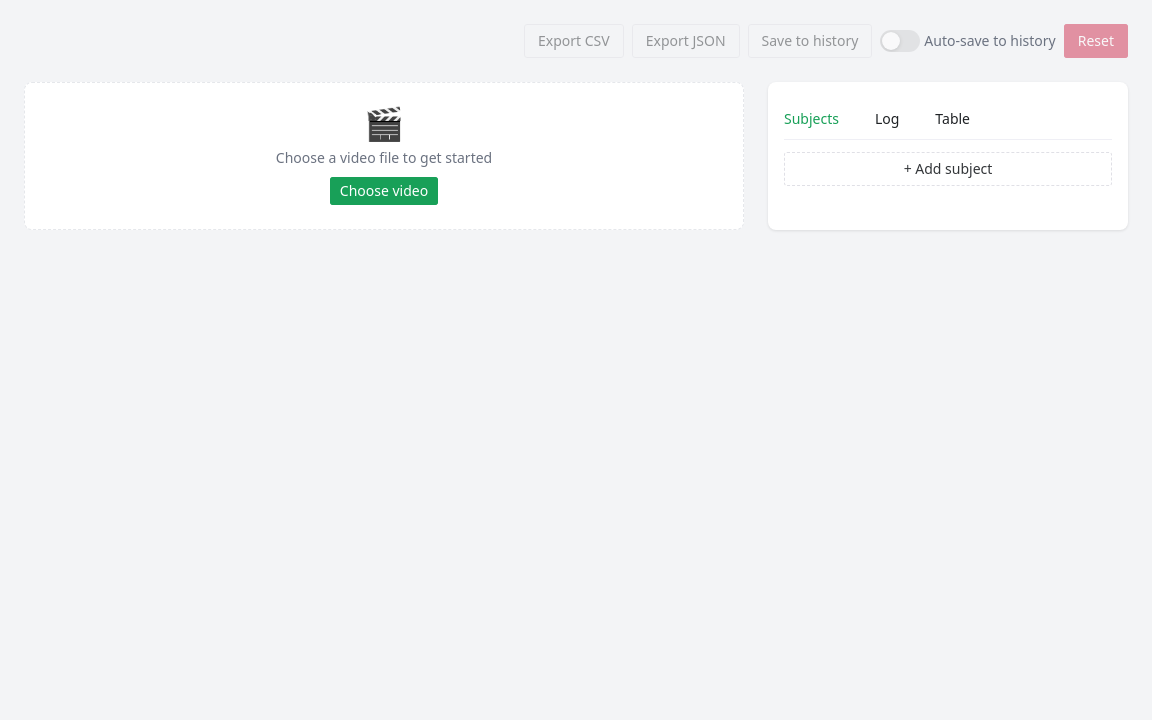
Test: HomePage › adds a subject through the form card and shows it among the subject cards
The image size is (1152, 720).
Click the button "+ Add subject" at (948, 169), box [784, 152, 1112, 186]
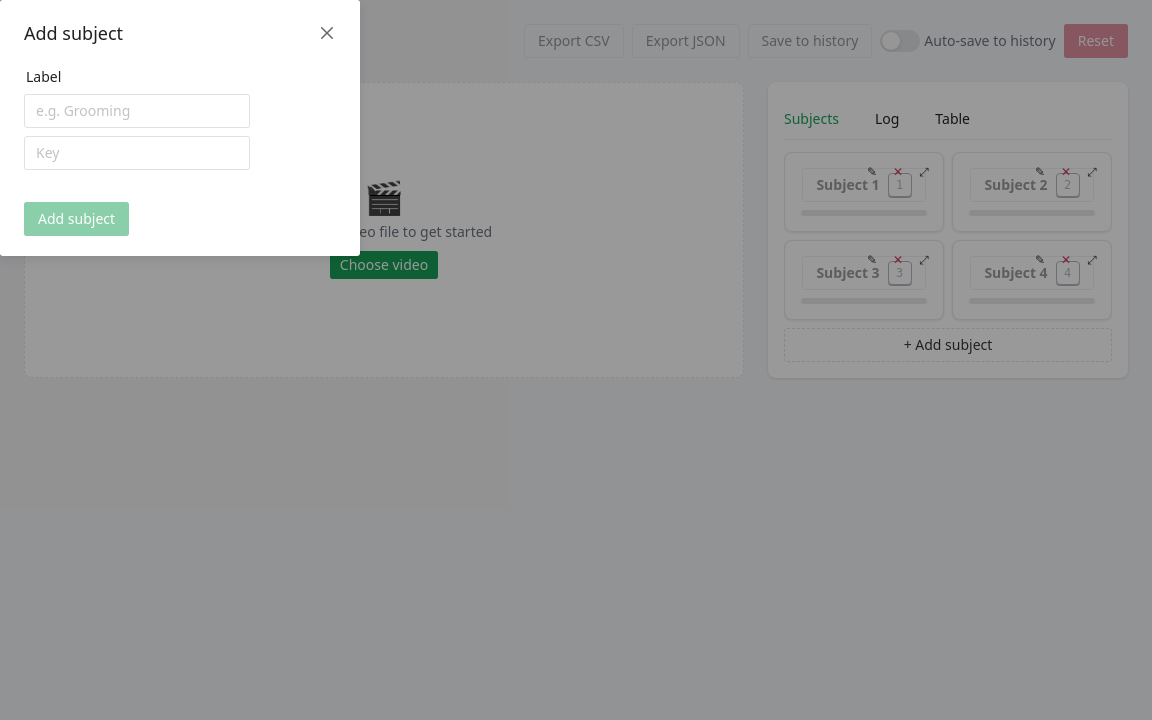
Type "Grooming" into the field with placeholder "e.g. Grooming" at (137, 111), box [36, 94, 238, 128]
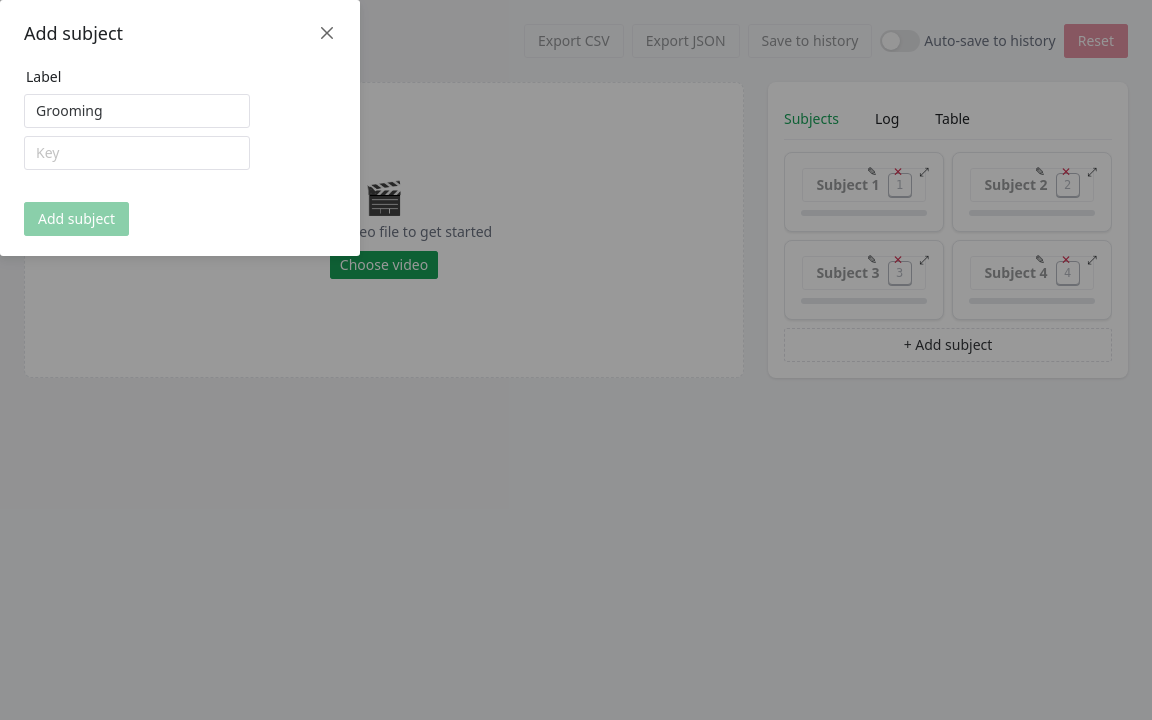
Type "g" into the field with placeholder "Key" at (137, 153), box [36, 136, 238, 170]
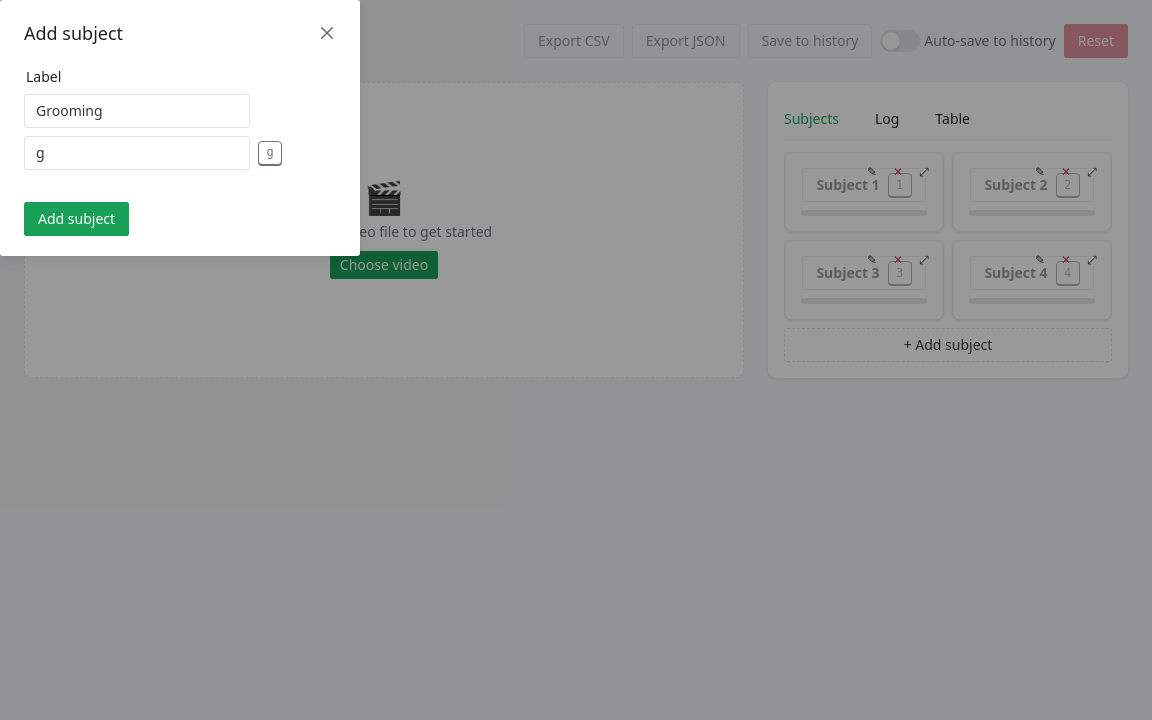
Submit the form, box [24, 67, 282, 236]
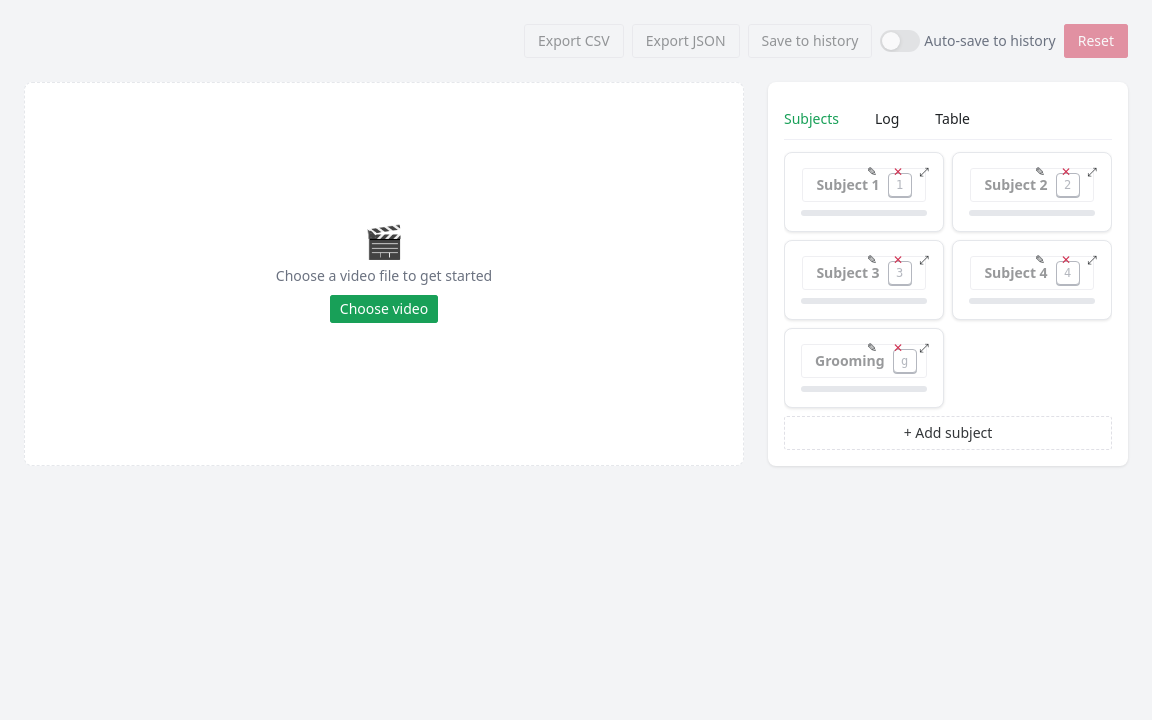
Expected: the text "Grooming" is shown, [815, 354, 885, 368]
